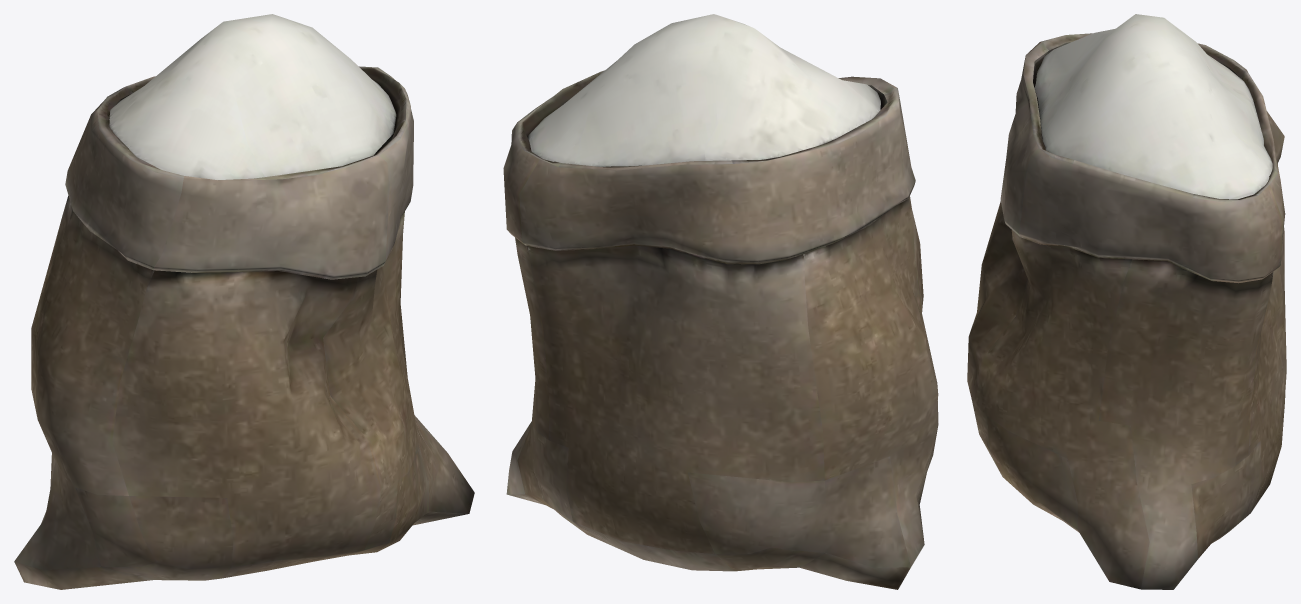
File: salt_bag.glb
The picture shows the model from 3 angles, left to right: view 1: azimuth 30°, elevation 25°; view 2: azimuth 150°, elevation 25°; view 3: azimuth 270°, elevation 25°; orthographic projection. The views are drawn at different scales.
Visible parts, largest first — view 1: SM_FlourSack_01a_165_StaticMeshComponent0; view 2: SM_FlourSack_01a_165_StaticMeshComponent0; view 3: SM_FlourSack_01a_165_StaticMeshComponent0.
Part boxes in pixels (box(x1,y1,x2,y2)): SM_FlourSack_01a_165_StaticMeshComponent0: box(14, 14, 474, 589); SM_FlourSack_01a_165_StaticMeshComponent0: box(503, 14, 938, 589); SM_FlourSack_01a_165_StaticMeshComponent0: box(967, 14, 1286, 589).
Size of the model in its own units: 0.7271 by 0.842 by 0.5102.
Materials: 1 (1 with a texture image).
